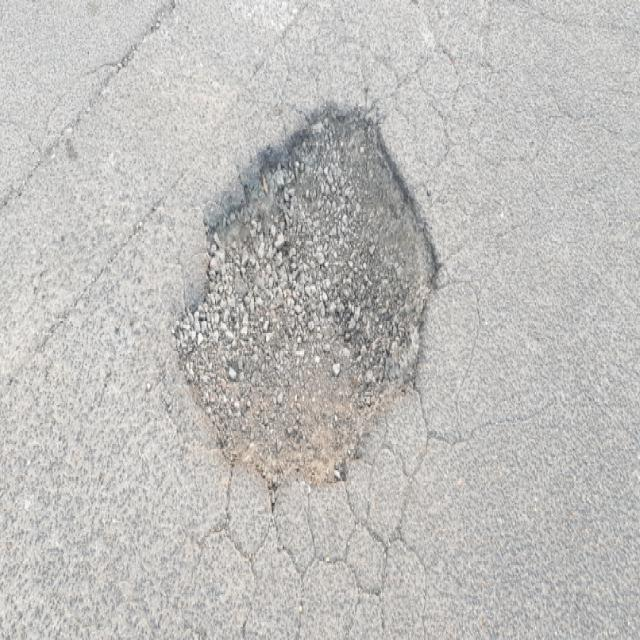Pothole: (173, 90, 446, 500)
